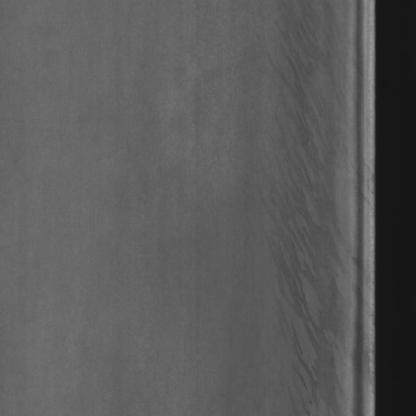water_spot: (259, 3, 345, 414)
